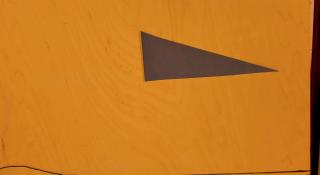Triangle: (140, 31, 280, 82)
